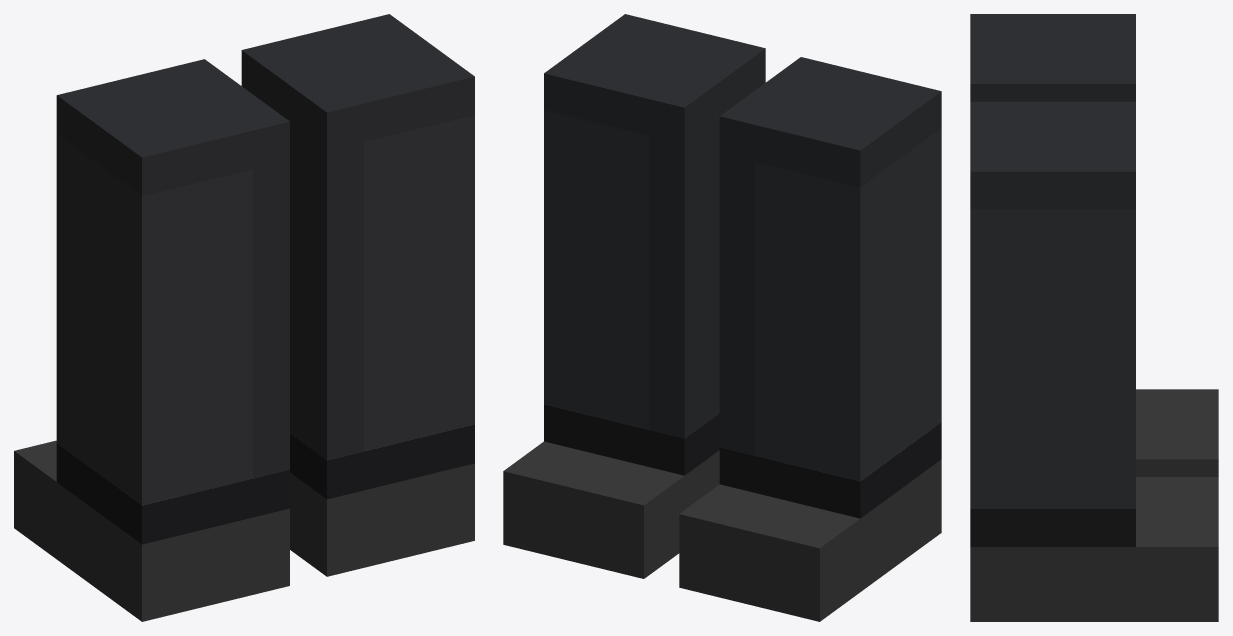
The model's file is blackJeans.glb.
3 views of the same model, side by side, from view 1: azimuth 30°, elevation 25°; view 2: azimuth 150°, elevation 25°; view 3: azimuth 270°, elevation 25° (orthographic). The views are drawn at different scales.
Parts seen in each view (by area): view 1: legLeft, legRight, footLeft, footRight; view 2: legLeft, legRight, footLeft, footRight; view 3: legRight, footRight, legLeft, footLeft.
Boxes of the visible parts, x1,y1,x2,y2 form: legLeft: (56, 59, 289, 544); legRight: (241, 14, 474, 499); footLeft: (14, 440, 289, 621); footRight: (290, 463, 474, 576); legLeft: (719, 57, 941, 518); legRight: (544, 14, 765, 475); footLeft: (679, 459, 941, 621); footRight: (503, 441, 719, 578); legRight: (970, 101, 1135, 546); footRight: (970, 477, 1218, 621); legLeft: (970, 14, 1135, 101); footLeft: (1136, 389, 1218, 476).
Size of the model in its own units: 0.5625 by 0.75 by 0.375.
Materials: 1 (1 with a texture image).
